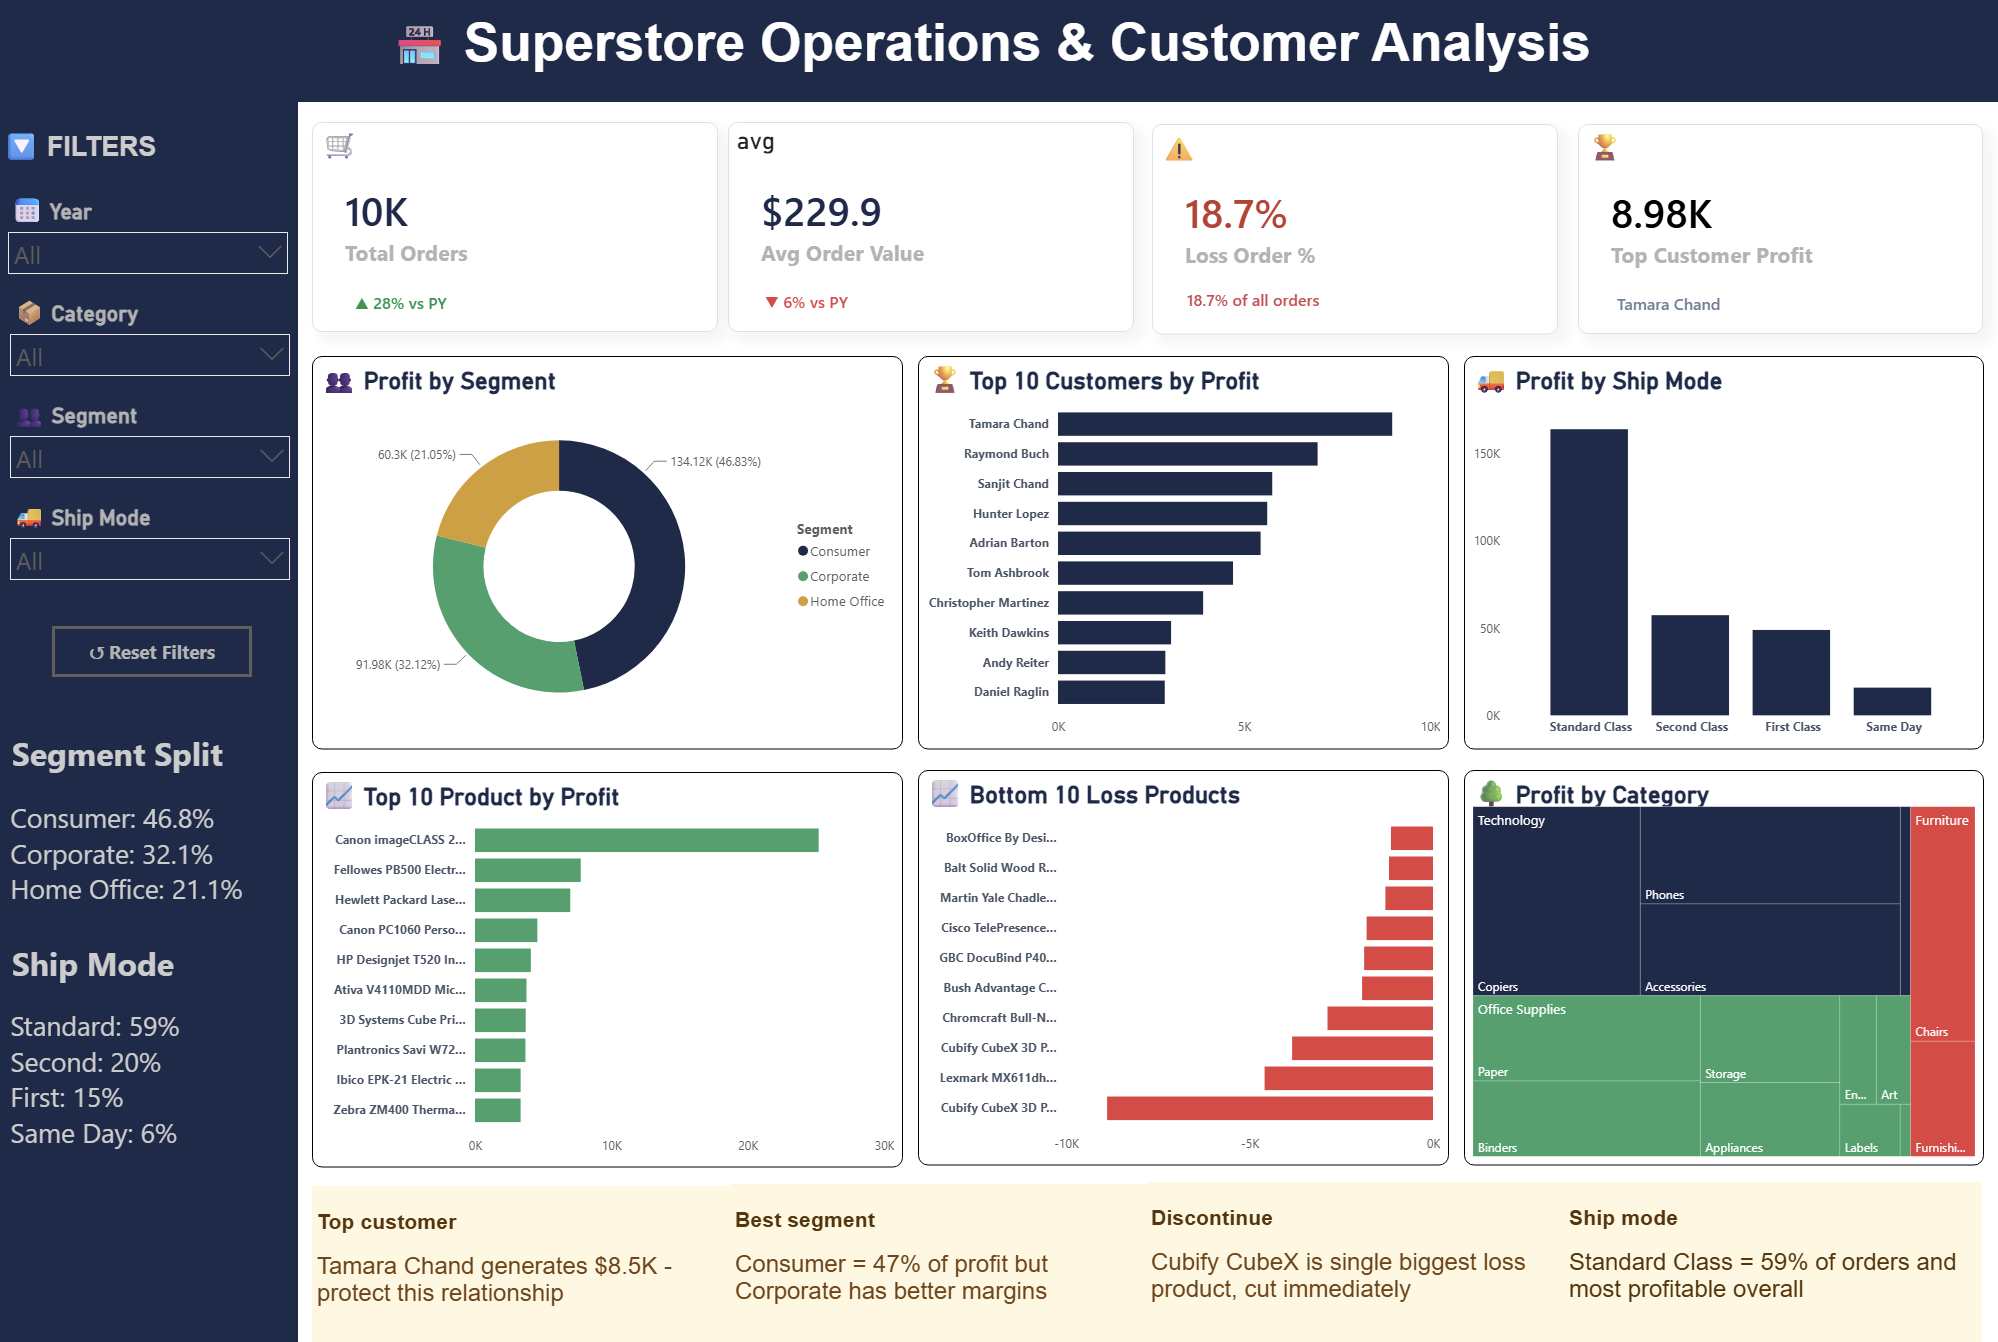

This screenshot's page, from the dashboard's own definition file:
{"tool":"powerbi","page":{"name":"Superstore Operations & Customer Analysis","canvas":[2000,1400],"ordinal":1},"visuals":[{"type":"textbox","box":[0,0,2000,104],"z":0,"group":"g3"},{"type":"shape","box":[0,104,300,1662],"z":0},{"type":"cardVisual","title":"🛒","fields":{"Data":["_Measures.Total Orders"]},"box":[314,124,406.1,210],"z":0,"group":"g1"},{"type":"group","id":"g1","title":"Group 1","box":[314,124,406.1,210],"z":0,"group":"g4"},{"type":"cardVisual","title":"avg","fields":{"Data":["_Measures.Avg Order Value"]},"box":[730.6,124.8,406,210],"z":0,"group":"g15"},{"type":"cardVisual","title":"🏆","fields":{"Data":["_Measures.Top Customer Profit"]},"box":[1579.1,126,404.9,210],"z":0,"group":"g16"},{"type":"cardVisual","title":"⚠️","fields":{"Data":["_Measures.Loss Order %"]},"box":[1154.9,126.7,406,210.3],"z":0,"group":"g17"},{"type":"textbox","box":[314,1188.4,418.1,165.6],"z":0,"group":"g6"},{"type":"slicer","fields":{"Values":["Superstore.Year"]},"box":[0,190,300,102],"z":1000},{"type":"cardVisual","fields":{"Data":["_Measures.Loss Order Label"]},"box":[1160.9,268.7,332,64],"z":1000,"group":"g17"},{"type":"cardVisual","fields":{"Data":["_Measures.AOV Growth Text"]},"box":[738.6,274.8,336,56],"z":1000,"group":"g15"},{"type":"cardVisual","fields":{"Data":["_Measures.Top Customer Name"]},"box":[1588.5,276,363.8,56],"z":1000,"group":"g16"},{"type":"textbox","box":[732.1,1186.2,418.1,165.6],"z":1000,"group":"g6"},{"type":"textbox","box":[0,124,300,66],"z":2000},{"type":"group","id":"g2","title":"Group 5","box":[1579.1,126,404.9,210],"z":2000,"group":"g4"},{"type":"slicer","fields":{"Values":["Superstore.Category"]},"box":[2.2,291.1,300,102],"z":2000,"group":"g9"},{"type":"textbox","box":[1147.7,1184,418.1,165.6],"z":2000,"group":"g6"},{"type":"group","id":"g3","title":"Group 2","box":[0,0,2000,104],"z":3000},{"type":"slicer","fields":{"Values":["Superstore.Segment"]},"box":[2.2,393.1,300,102],"z":3000,"group":"g9"},{"type":"textbox","box":[1565.9,1184,418.1,165.6],"z":3000,"group":"g6"},{"type":"group","id":"g4","title":"Group 7","box":[314,124,1670,212],"z":4000,"group":"g14"},{"type":"slicer","fields":{"Values":["Superstore.Ship Mode"]},"box":[2.2,495.1,300,102],"z":4000,"group":"g9"},{"type":"textbox","box":[0,728.9,300,66.7],"z":4000,"group":"g5"},{"type":"group","id":"g5","title":"Group 8","box":[0,728.9,300,66.7],"z":4000},{"type":"textbox","box":[0,796,300,140],"z":4000,"group":"g10"},{"type":"textbox","box":[0,937.8,300,66.7],"z":4000,"group":"g11"},{"type":"textbox","box":[0,1003.5,300,177.8],"z":4000,"group":"g12"},{"type":"group","id":"g6","title":"Group 10","box":[314,1184,1670,170],"z":5000},{"type":"group","id":"g7","title":"Group 9","box":[313.3,357.8,1671.1,811.1],"z":6000},{"type":"group","id":"g8","title":"Group 4","box":[730.6,124.8,406,210],"z":7000},{"type":"donutChart","title":"👥 Profit by Segment","fields":{"Category":["Superstore.Segment"],"Y":["_Measures.Total Profit"]},"box":[313.3,357.8,591.1,393.3],"z":7000,"group":"g7"},{"type":"cardVisual","fields":{"Data":["_Measures.Orders Trend Label"]},"box":[328.9,273.3,375.6,57.8],"z":8000,"group":"g14"},{"type":"group","id":"g9","title":"Group 3","box":[2.2,291.1,300,386.7],"z":8000},{"type":"clusteredBarChart","title":"🏆 Top 10 Customers by Profit","fields":{"Category":["Superstore.Customer Name"],"Y":["_Measures.Total Profit"]},"box":[920,357.8,531.1,393.3],"z":8000,"group":"g7"},{"type":"clusteredColumnChart","title":"🚚 Profit by Ship Mode","fields":{"Category":["Superstore.Ship Mode"],"Y":["_Measures.Total Profit"]},"box":[1464.4,357.8,520,393.3],"z":9000,"group":"g7"},{"type":"group","id":"g10","title":"Group 8","box":[0,796,300,140],"z":9000},{"type":"actionButton","box":[53.3,626.7,200,51.1],"z":9002,"group":"g9"},{"type":"clusteredBarChart","title":"📈 Top 10 Product by Profit","fields":{"Category":["Superstore.Product Name"],"Y":["_Measures.Total Profit"]},"box":[313.3,773.4,591.1,395.6],"z":10000,"group":"g7"},{"type":"group","id":"g11","title":"Group 8","box":[0,937.8,300,66.7],"z":10000},{"type":"clusteredBarChart","title":"📈 Bottom 10 Loss Products","fields":{"Category":["Superstore.Product Name"],"Y":["_Measures.Total Profit"]},"box":[920,771.1,531.1,395.6],"z":11000,"group":"g7"},{"type":"group","id":"g12","title":"Group 8","box":[0,1003.5,300,177.8],"z":11000},{"type":"group","id":"g13","title":"Group 6","box":[1154.9,126.7,406,210.3],"z":12000},{"type":"treemap","title":"🌳 Profit by Category","fields":{"Details":["Superstore.Sub-Category"],"Group":["Superstore.Category"],"Values":["_Measures.Total Profit"]},"box":[1464.4,771.1,520,395.6],"z":12000,"group":"g7"},{"type":"group","id":"g14","title":"Group 11","box":[314,124,1670,212],"z":13000},{"type":"group","id":"g15","title":"Group 12","box":[730.6,124.8,406,210],"z":14002,"group":"g8"},{"type":"group","id":"g16","title":"Group 14","box":[1579.1,126,404.9,210],"z":14002,"group":"g2"},{"type":"group","id":"g17","title":"Group 13","box":[1154.9,126.7,406,210.3],"z":14002,"group":"g13"}]}

Visuals, with their boxes on the page's 2000x1400 design canvas (x1, y1, x2, y2). These are canvas units, not pixel positions in the 1998x1342 screenshot, which may show the page scaled, cropped or inside an application window:
textbox: [x1=0, y1=0, x2=2000, y2=104]
shape: [x1=0, y1=104, x2=300, y2=1766]
"🛒" cardVisual: [x1=314, y1=124, x2=720, y2=334]
"Group 1" group: [x1=314, y1=124, x2=720, y2=334]
"avg" cardVisual: [x1=731, y1=125, x2=1137, y2=335]
"🏆" cardVisual: [x1=1579, y1=126, x2=1984, y2=336]
"⚠️" cardVisual: [x1=1155, y1=127, x2=1561, y2=337]
textbox: [x1=314, y1=1188, x2=732, y2=1354]
slicer - Superstore.Year: [x1=0, y1=190, x2=300, y2=292]
cardVisual - _Measures.Loss Order Label: [x1=1161, y1=269, x2=1493, y2=333]
cardVisual - _Measures.AOV Growth Text: [x1=739, y1=275, x2=1075, y2=331]
cardVisual - _Measures.Top Customer Name: [x1=1588, y1=276, x2=1952, y2=332]
textbox: [x1=732, y1=1186, x2=1150, y2=1352]
textbox: [x1=0, y1=124, x2=300, y2=190]
"Group 5" group: [x1=1579, y1=126, x2=1984, y2=336]
slicer - Superstore.Category: [x1=2, y1=291, x2=302, y2=393]
textbox: [x1=1148, y1=1184, x2=1566, y2=1350]
"Group 2" group: [x1=0, y1=0, x2=2000, y2=104]
slicer - Superstore.Segment: [x1=2, y1=393, x2=302, y2=495]
textbox: [x1=1566, y1=1184, x2=1984, y2=1350]
"Group 7" group: [x1=314, y1=124, x2=1984, y2=336]
slicer - Superstore.Ship Mode: [x1=2, y1=495, x2=302, y2=597]
textbox: [x1=0, y1=729, x2=300, y2=796]
"Group 8" group: [x1=0, y1=729, x2=300, y2=796]
textbox: [x1=0, y1=796, x2=300, y2=936]
textbox: [x1=0, y1=938, x2=300, y2=1004]
textbox: [x1=0, y1=1004, x2=300, y2=1181]
"Group 10" group: [x1=314, y1=1184, x2=1984, y2=1354]
"Group 9" group: [x1=313, y1=358, x2=1984, y2=1169]
"Group 4" group: [x1=731, y1=125, x2=1137, y2=335]
"👥 Profit by Segment" donutChart: [x1=313, y1=358, x2=904, y2=751]
cardVisual - _Measures.Orders Trend Label: [x1=329, y1=273, x2=704, y2=331]
"Group 3" group: [x1=2, y1=291, x2=302, y2=678]
"🏆 Top 10 Customers by Profit" clusteredBarChart: [x1=920, y1=358, x2=1451, y2=751]
"🚚 Profit by Ship Mode" clusteredColumnChart: [x1=1464, y1=358, x2=1984, y2=751]
"Group 8" group: [x1=0, y1=796, x2=300, y2=936]
actionButton: [x1=53, y1=627, x2=253, y2=678]
"📈 Top 10 Product by Profit" clusteredBarChart: [x1=313, y1=773, x2=904, y2=1169]
"Group 8" group: [x1=0, y1=938, x2=300, y2=1004]
"📈 Bottom 10 Loss Products" clusteredBarChart: [x1=920, y1=771, x2=1451, y2=1167]
"Group 8" group: [x1=0, y1=1004, x2=300, y2=1181]
"Group 6" group: [x1=1155, y1=127, x2=1561, y2=337]
"🌳 Profit by Category" treemap: [x1=1464, y1=771, x2=1984, y2=1167]
"Group 11" group: [x1=314, y1=124, x2=1984, y2=336]
"Group 12" group: [x1=731, y1=125, x2=1137, y2=335]
"Group 14" group: [x1=1579, y1=126, x2=1984, y2=336]
"Group 13" group: [x1=1155, y1=127, x2=1561, y2=337]
